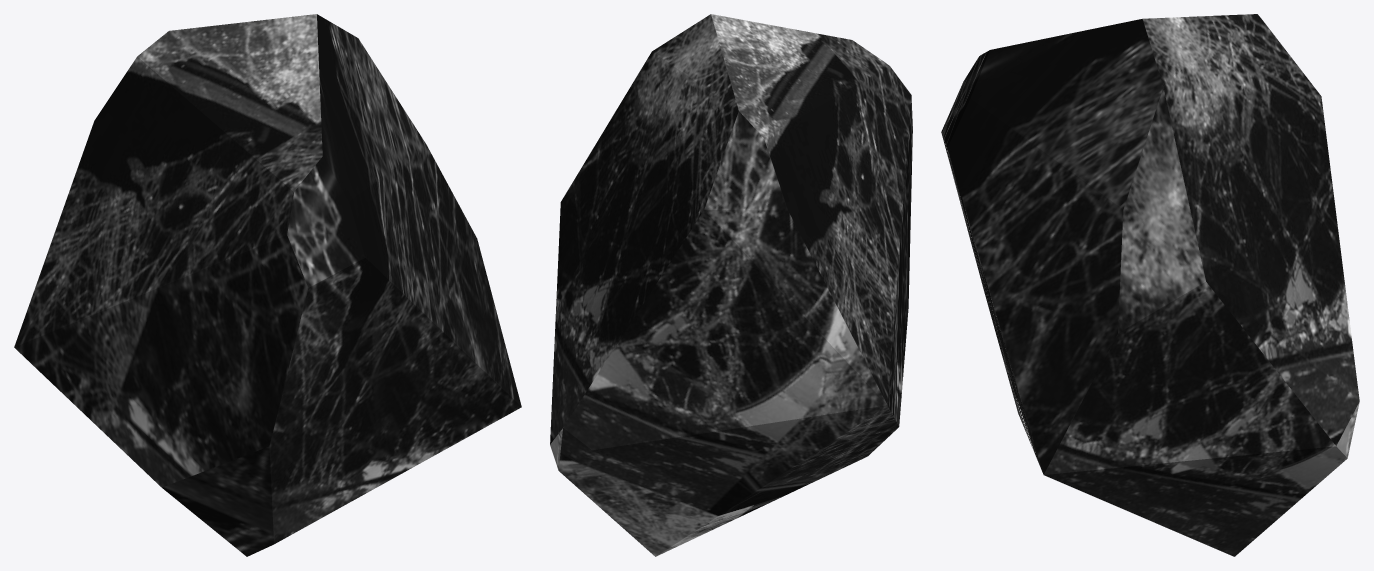
File: クリスタル.glb
The picture shows the model from 3 angles, left to right: view 1: azimuth 30°, elevation 25°; view 2: azimuth 150°, elevation 25°; view 3: azimuth 270°, elevation 25°; orthographic projection. The views are drawn at different scales.
Parts seen in each view (by area): view 1: 01; view 2: 01; view 3: 01.
Boxes of the visible parts, x1,y1,x2,y2 form: 01: (14,14,521,556); 01: (550,14,912,556); 01: (941,14,1359,556).
Bounding box in the file's own units: 71.78 × 93.9 × 66.87.
1 material, 1 textured.
